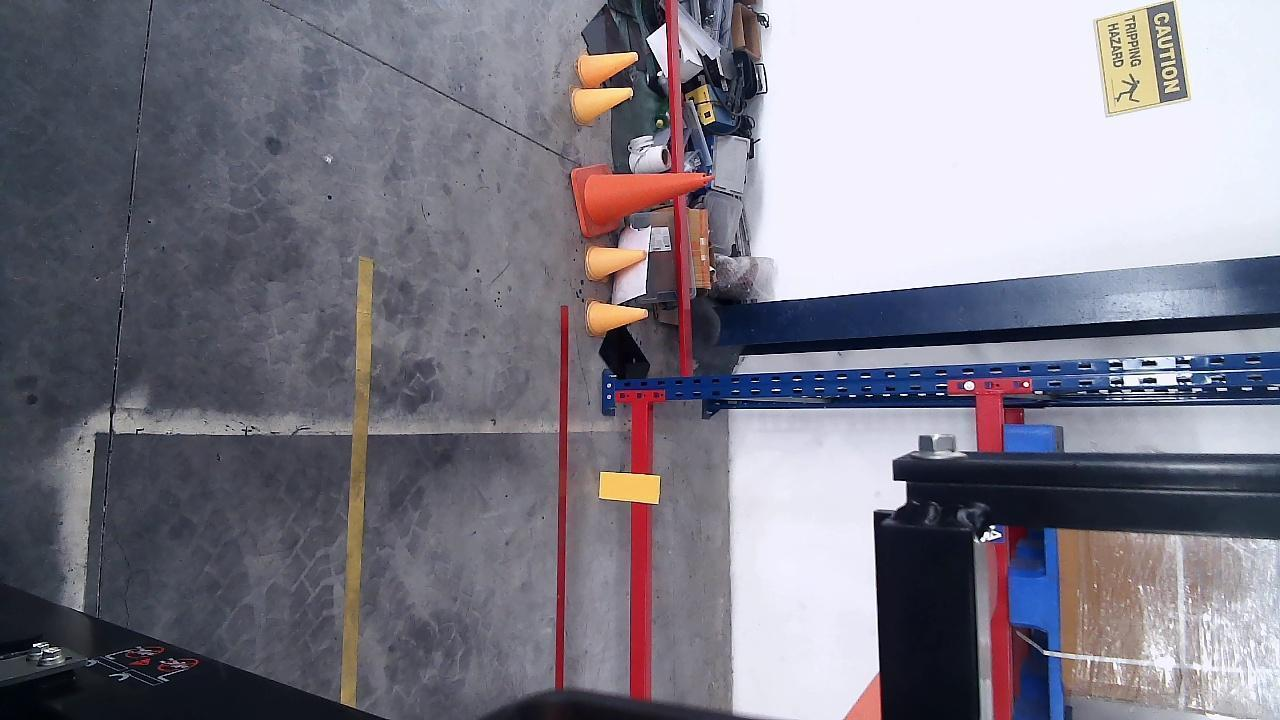red_line: (555, 303, 569, 688)
yellow_line: (341, 256, 372, 706)
